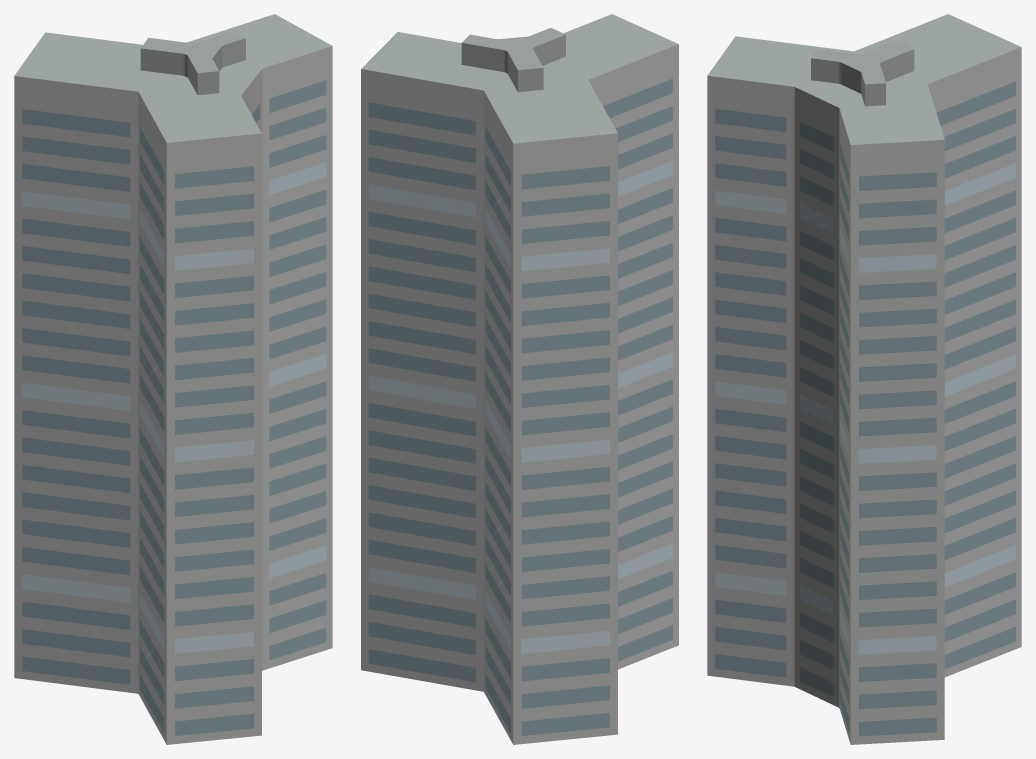
File: fallback-godeok-raemian-hillstate-116.glb
3 views of the same model, side by side, from view 1: azimuth 30°, elevation 25°; view 2: azimuth 150°, elevation 25°; view 3: azimuth 270°, elevation 25° (orthographic).
Visible parts, largest first — view 1: fallback-godeok-raemian-hillstate-116; view 2: fallback-godeok-raemian-hillstate-116; view 3: fallback-godeok-raemian-hillstate-116.
Part boxes in pixels (x1,y1,x2,y2): fallback-godeok-raemian-hillstate-116: [14, 14, 332, 744]; fallback-godeok-raemian-hillstate-116: [361, 14, 678, 744]; fallback-godeok-raemian-hillstate-116: [707, 14, 1021, 744].
Size of the model in its own units: 30.73 by 68 by 31.15.
